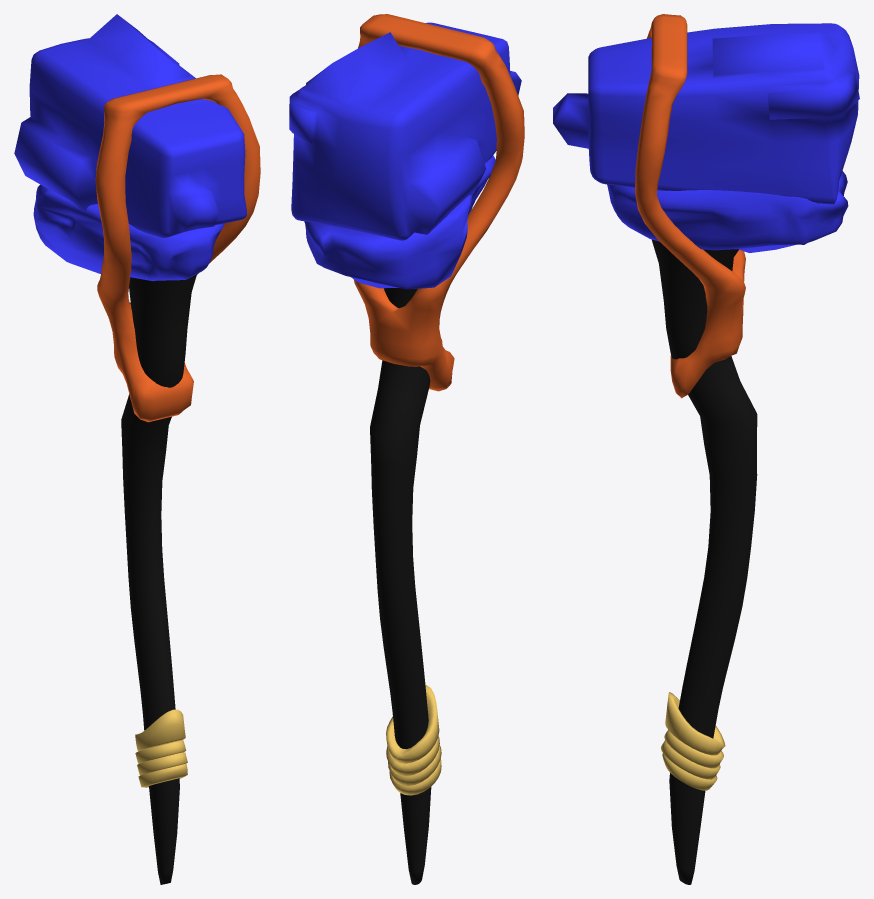
Rendered from earthHammer_Mesh.fbx.
3 views of the same model, side by side, from view 1: azimuth 30°, elevation 25°; view 2: azimuth 150°, elevation 25°; view 3: azimuth 270°, elevation 25° (orthographic). The views are drawn at different scales.
Parts seen in each view (by area): view 1: hammerTop, hammerHandle, goldHolder, hammerRock, goldRings; view 2: hammerTop, hammerHandle, goldHolder, hammerRock, goldRings; view 3: hammerTop, hammerHandle, goldHolder, hammerRock, goldRings.
Boxes of the visible parts, x1,y1,x2,y2 form: hammerTop: [14, 14, 246, 237]; hammerHandle: [121, 274, 196, 884]; goldHolder: [95, 74, 260, 422]; hammerRock: [33, 184, 224, 281]; goldRings: [135, 709, 187, 787]; hammerTop: [289, 22, 521, 240]; hammerHandle: [370, 288, 431, 884]; goldHolder: [353, 14, 524, 391]; hammerRock: [304, 155, 495, 289]; goldRings: [386, 684, 441, 795]; hammerTop: [553, 23, 859, 204]; hammerHandle: [652, 239, 757, 884]; goldHolder: [635, 14, 745, 398]; hammerRock: [607, 171, 848, 252]; goldRings: [661, 692, 725, 790].
Bounding box in the file's own units: 12.83 × 61.56 × 19.93.
